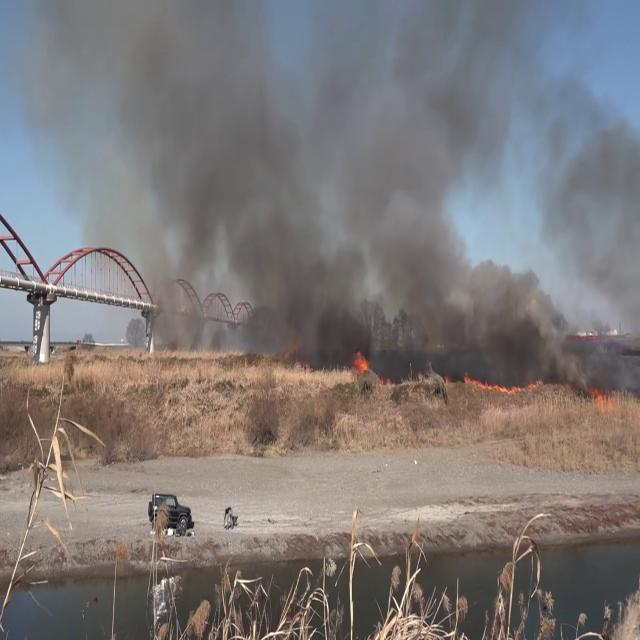Smoke: (21, 0, 617, 388)
